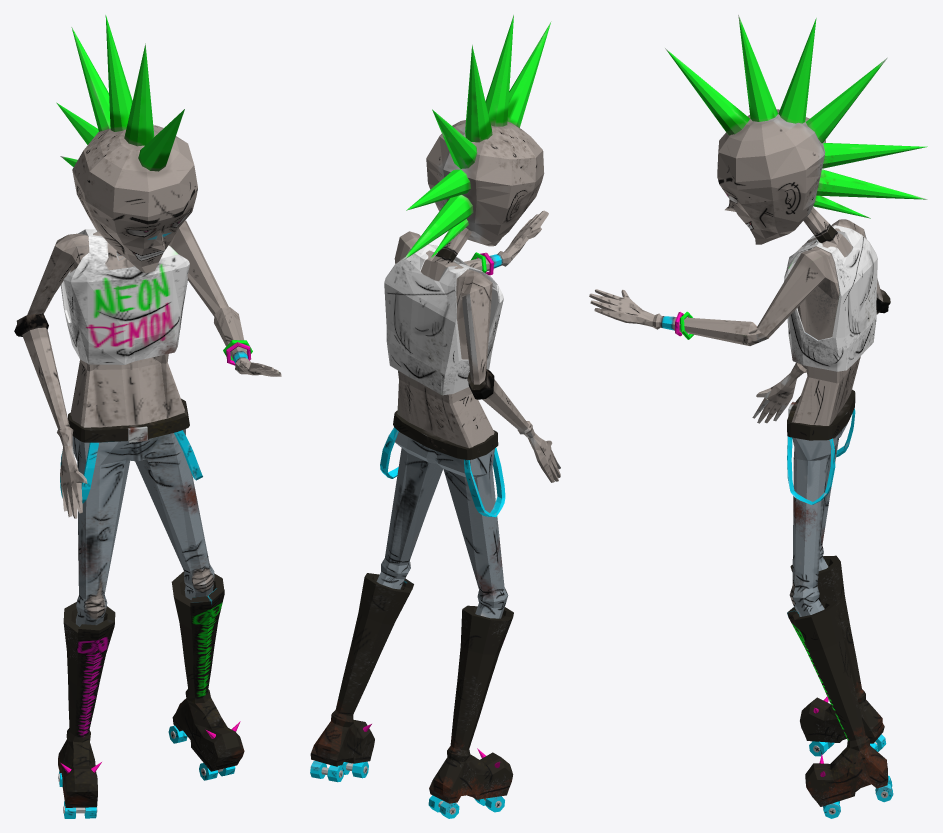
Rendered from punkAnimation_000025.obj.
3 renders of one model, left to right at view 1: azimuth 30°, elevation 25°; view 2: azimuth 150°, elevation 25°; view 3: azimuth 270°, elevation 25°, orthographic. The views are drawn at different scales.
Parts seen in each view (by area): view 1: Cube.004_Cube.003; view 2: Cube.004_Cube.003; view 3: Cube.004_Cube.003.
Boxes of the visible parts, x1,y1,x2,y2 form: Cube.004_Cube.003: [14, 15, 281, 818]; Cube.004_Cube.003: [310, 15, 560, 818]; Cube.004_Cube.003: [589, 15, 927, 818].
Size of the model in its own units: 1.99 by 7.49 by 3.09.
